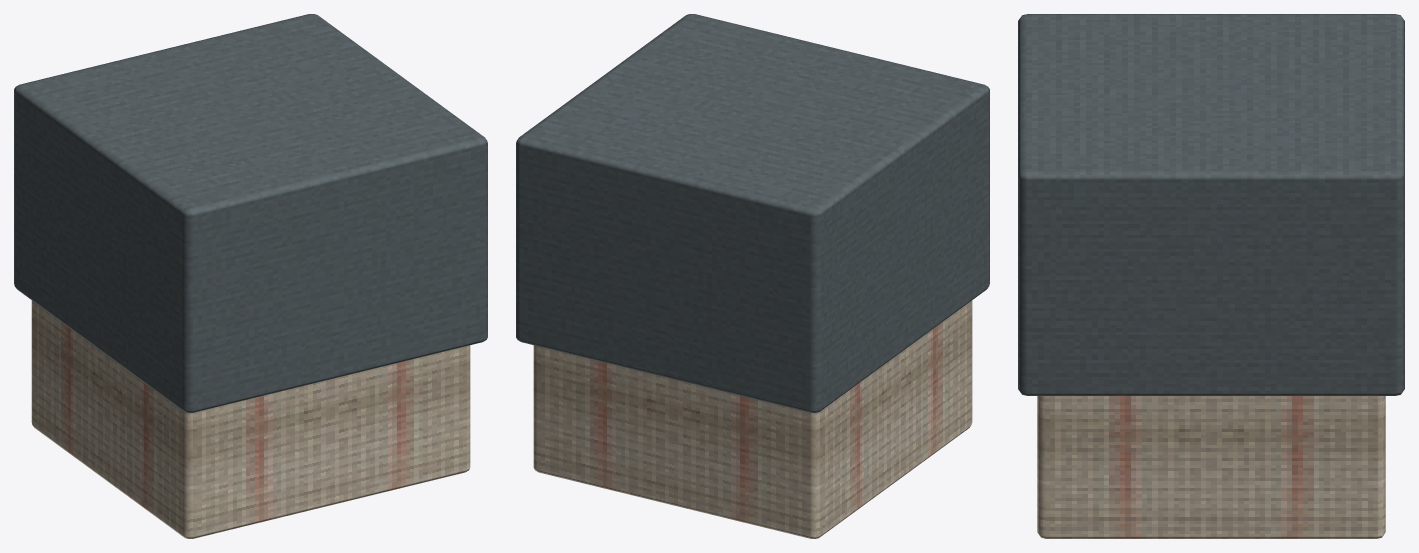
The model's file is reading-light.glb.
3 renders of one model, left to right at view 1: azimuth 30°, elevation 25°; view 2: azimuth 150°, elevation 25°; view 3: azimuth 270°, elevation 25°, orthographic. The views are drawn at different scales.
Parts seen in each view (by area): view 1: housing, diffuser; view 2: housing, diffuser; view 3: housing, diffuser.
Boxes of the visible parts, left/top/right/bottom form: housing: left=14, top=14, right=487, bottom=412; diffuser: left=31, top=300, right=470, bottom=538; housing: left=516, top=14, right=989, bottom=412; diffuser: left=533, top=300, right=972, bottom=538; housing: left=1018, top=14, right=1404, bottom=395; diffuser: left=1037, top=396, right=1385, bottom=538.
Bounding box in the file's own units: 0.15 × 0.1592 × 0.15.
Materials: 2 (2 with a texture image).
